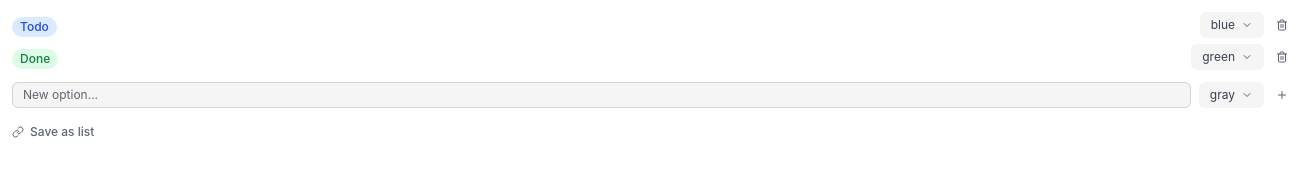
Test: OptionsEditor › saves the options as a list on Enter, without submitting the surrounding form
Click the button "Save as list".
click(53, 132)  # box [12, 124, 94, 140]
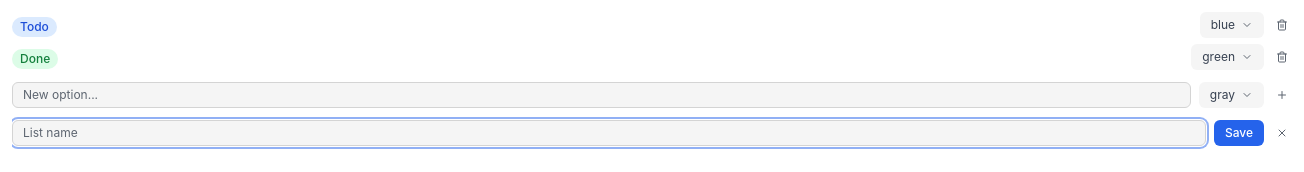
Type " Phases " into the field labelled "List name".
click(609, 133); type(" Phases ")  # box [12, 120, 1206, 146]
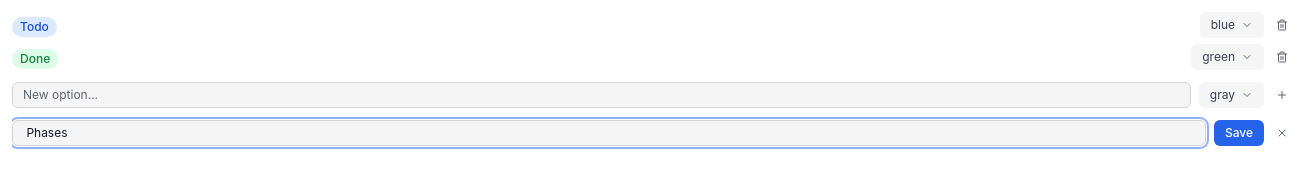
Press Enter in the field named "List name", box [12, 120, 1206, 146]
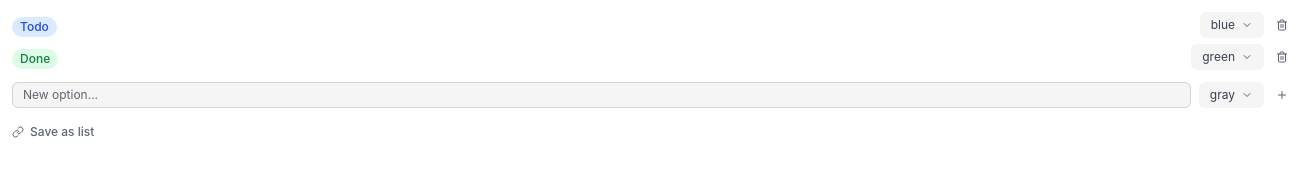
Expected: the button "Save as list" is shown, [12, 124, 94, 140]
